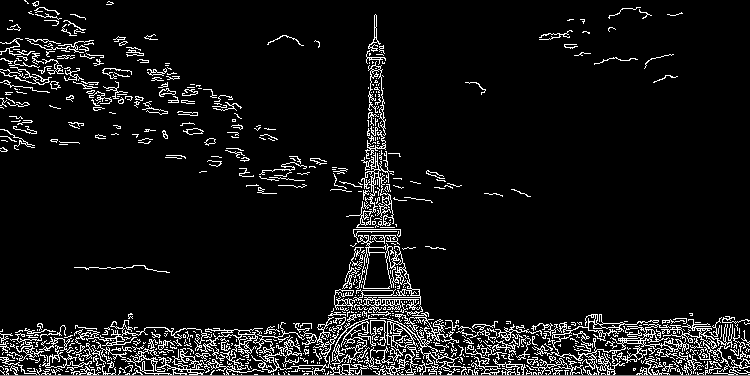eiffel tower: (312, 7, 437, 355)
